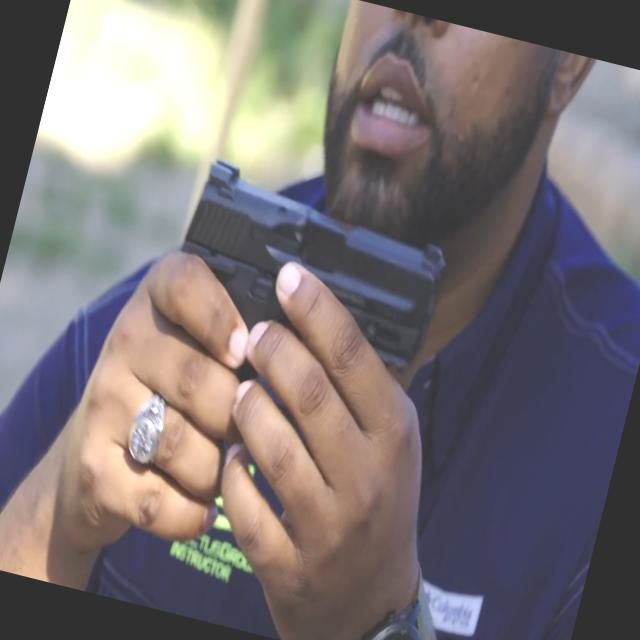handgun: (98, 106, 500, 539)
